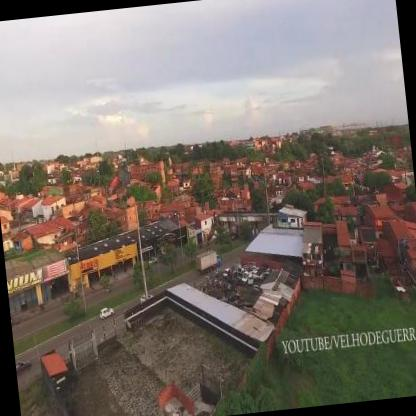lixo: (210, 271, 241, 304), (234, 260, 262, 288)
